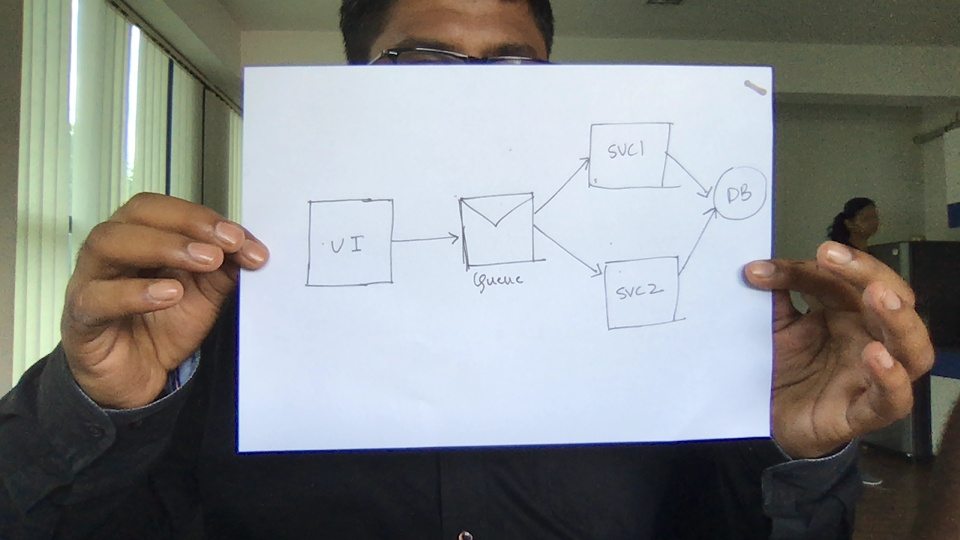db: (708, 162, 771, 224)
ec2: (585, 118, 678, 198), (592, 252, 685, 332)
sns: (455, 189, 544, 276)
ui: (303, 194, 397, 294)
